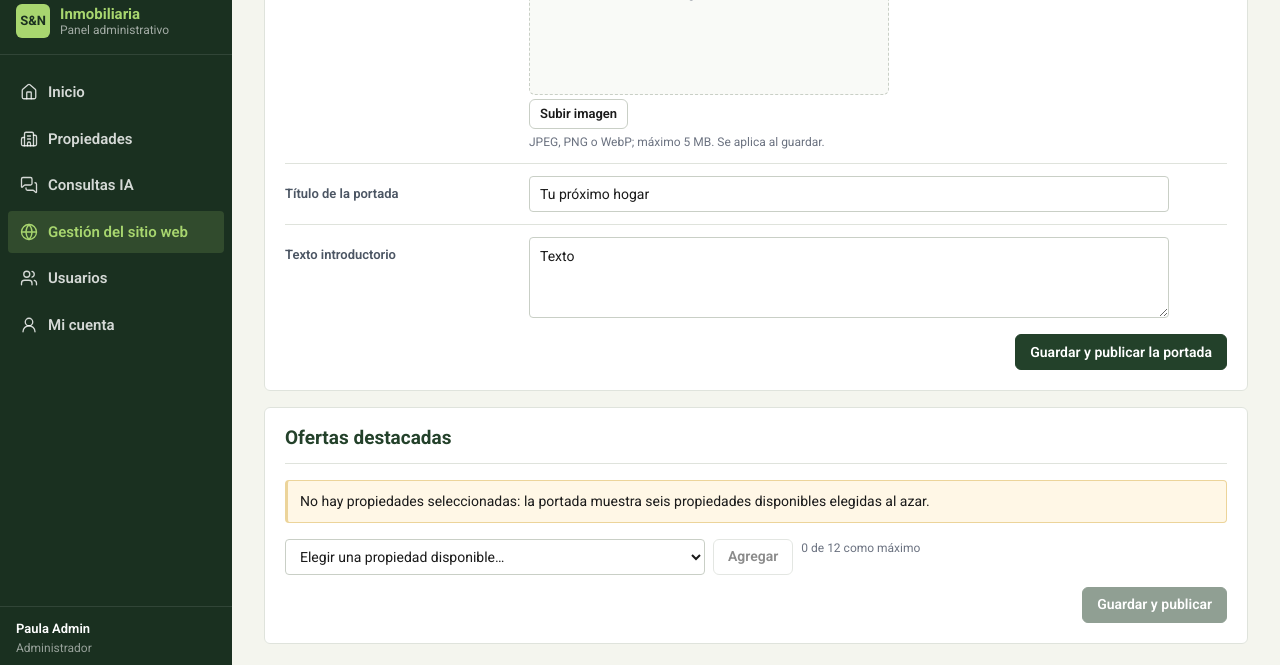
Gestión del sitio web › Ofertas (dentro de Inicio): sin selección avisa del comportamiento al azar; agrega solo disponibles y publica
(page scrolled)
Check: the heading "Ofertas destacadas" is shown, box [285,424,1227,464]
Check: the text "seis propiedades disponibles elegidas al azar" is shown, box [300,492,930,508]
Select "Departamento en San Jose (prop-004)" in the dropdown named "Propiedad a destacar" at (495, 556), box [285,538,705,574]
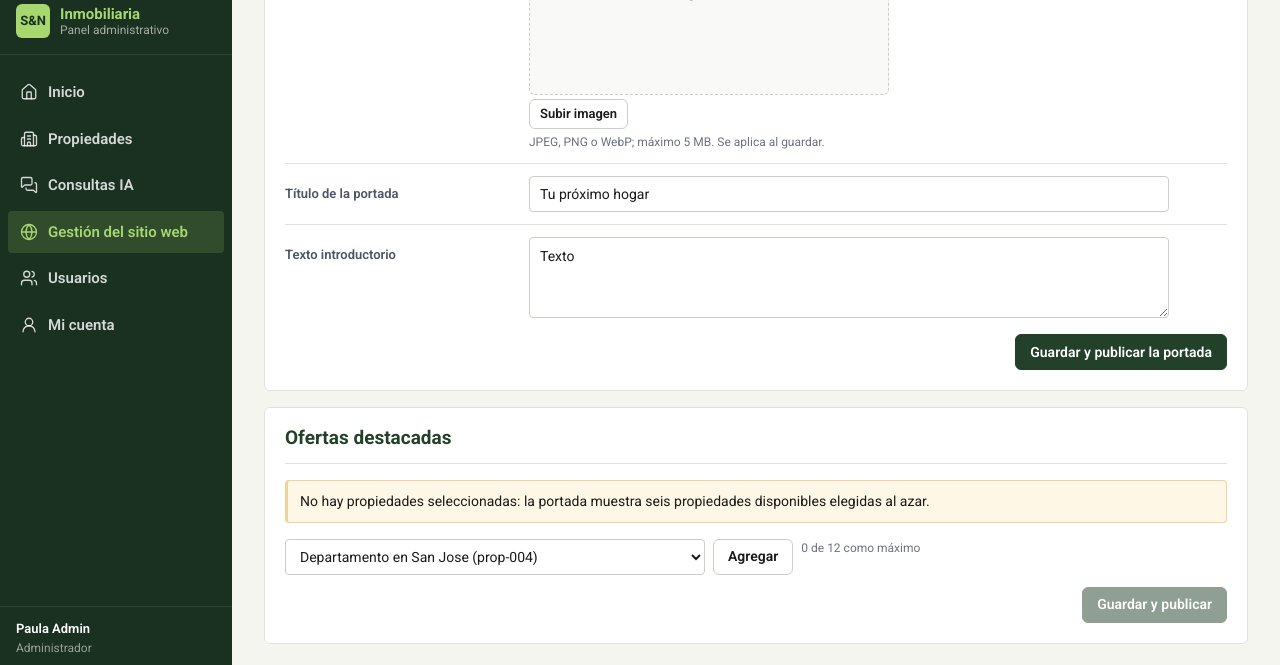
Click the button "Agregar" at (753, 556), box [713,538,793,574]
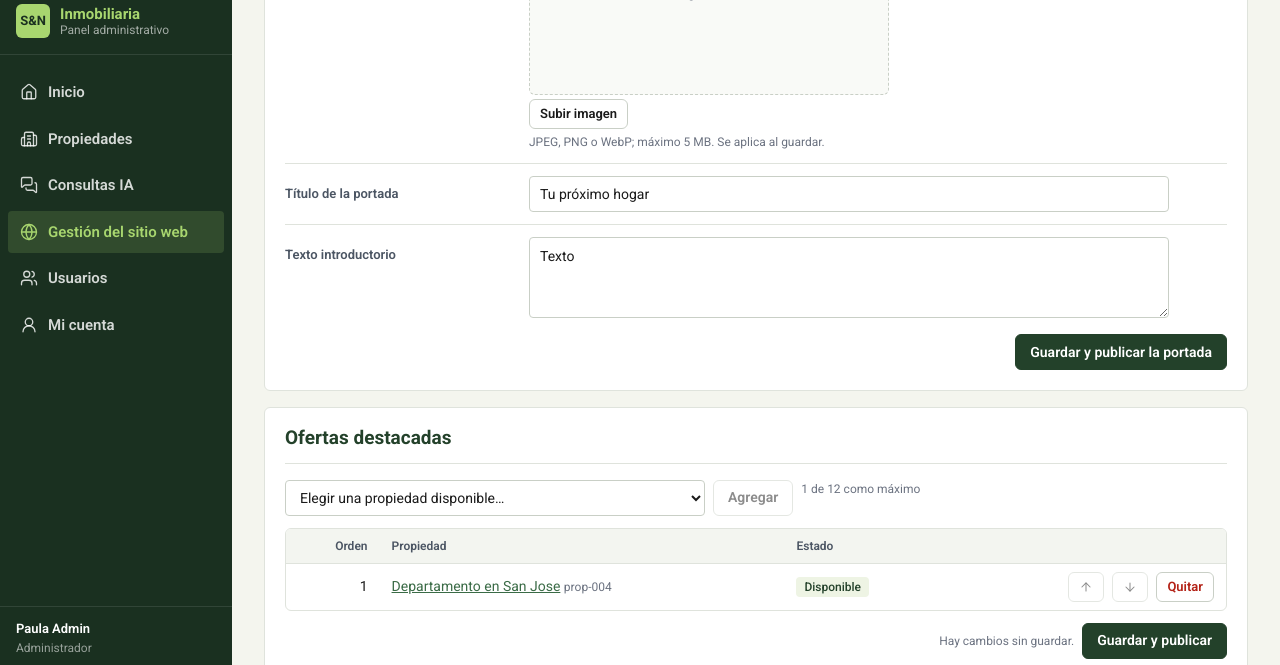
Check: the text "Hay cambios sin guardar." is shown, box [939,632,1074,650]
Click the button "Guardar y publicar" at (1155, 640), box [1082,622,1227,658]
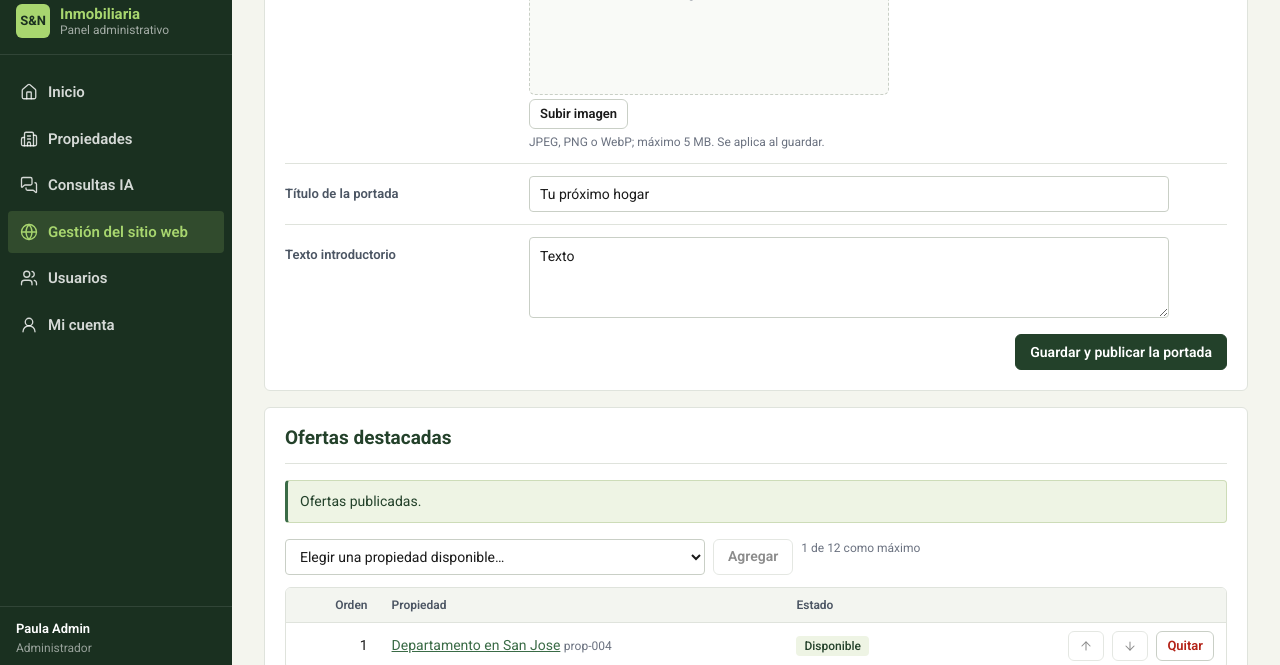
Check: the text "Ofertas publicadas." is shown, box [285,480,1227,522]
